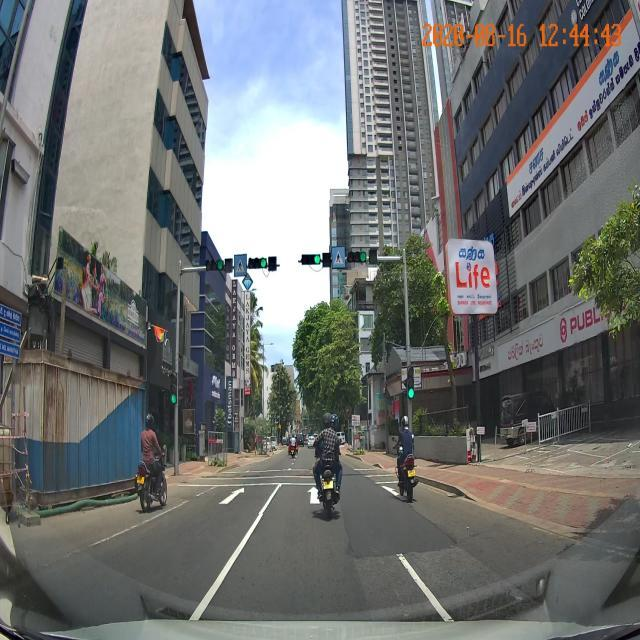forward: (183, 486, 280, 514)
